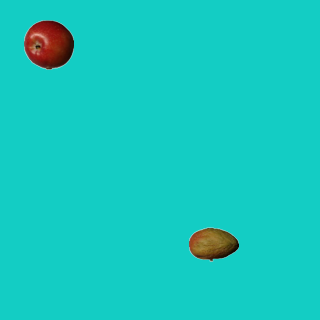Apple Braeburn: (23, 19, 73, 69)
Papaya: (188, 219, 238, 269)
